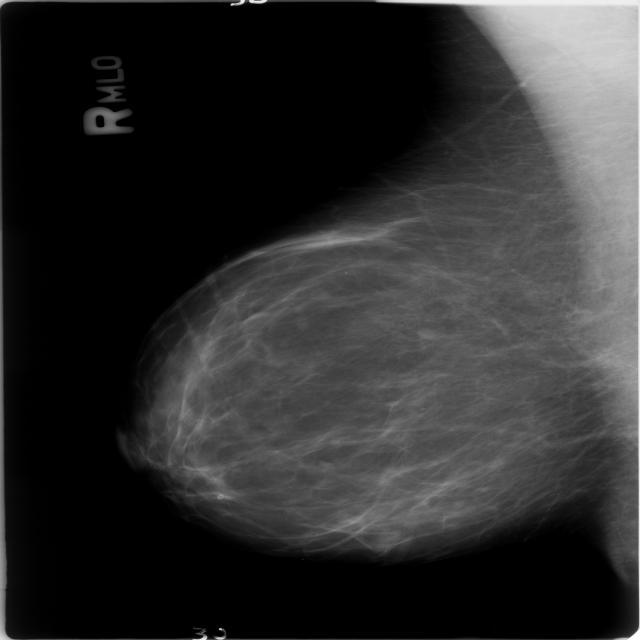cancer: (153, 326, 262, 506), (276, 218, 438, 285), (298, 492, 422, 566)
